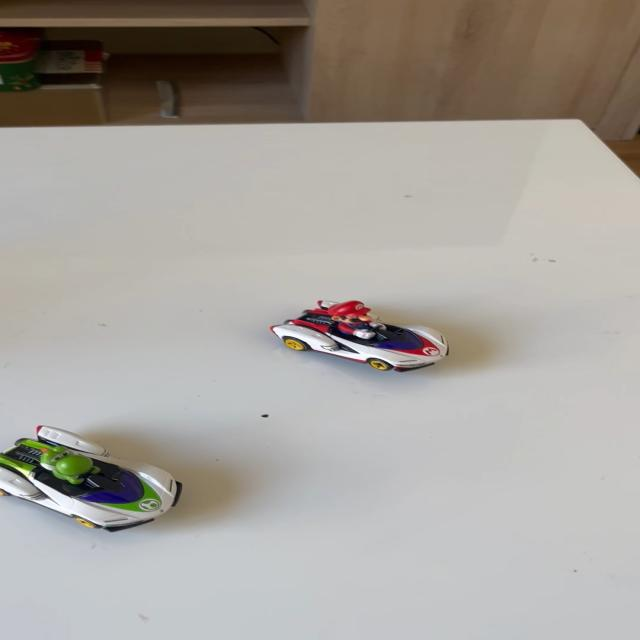mario: (250, 292, 470, 379)
yoshi: (0, 417, 207, 538)
